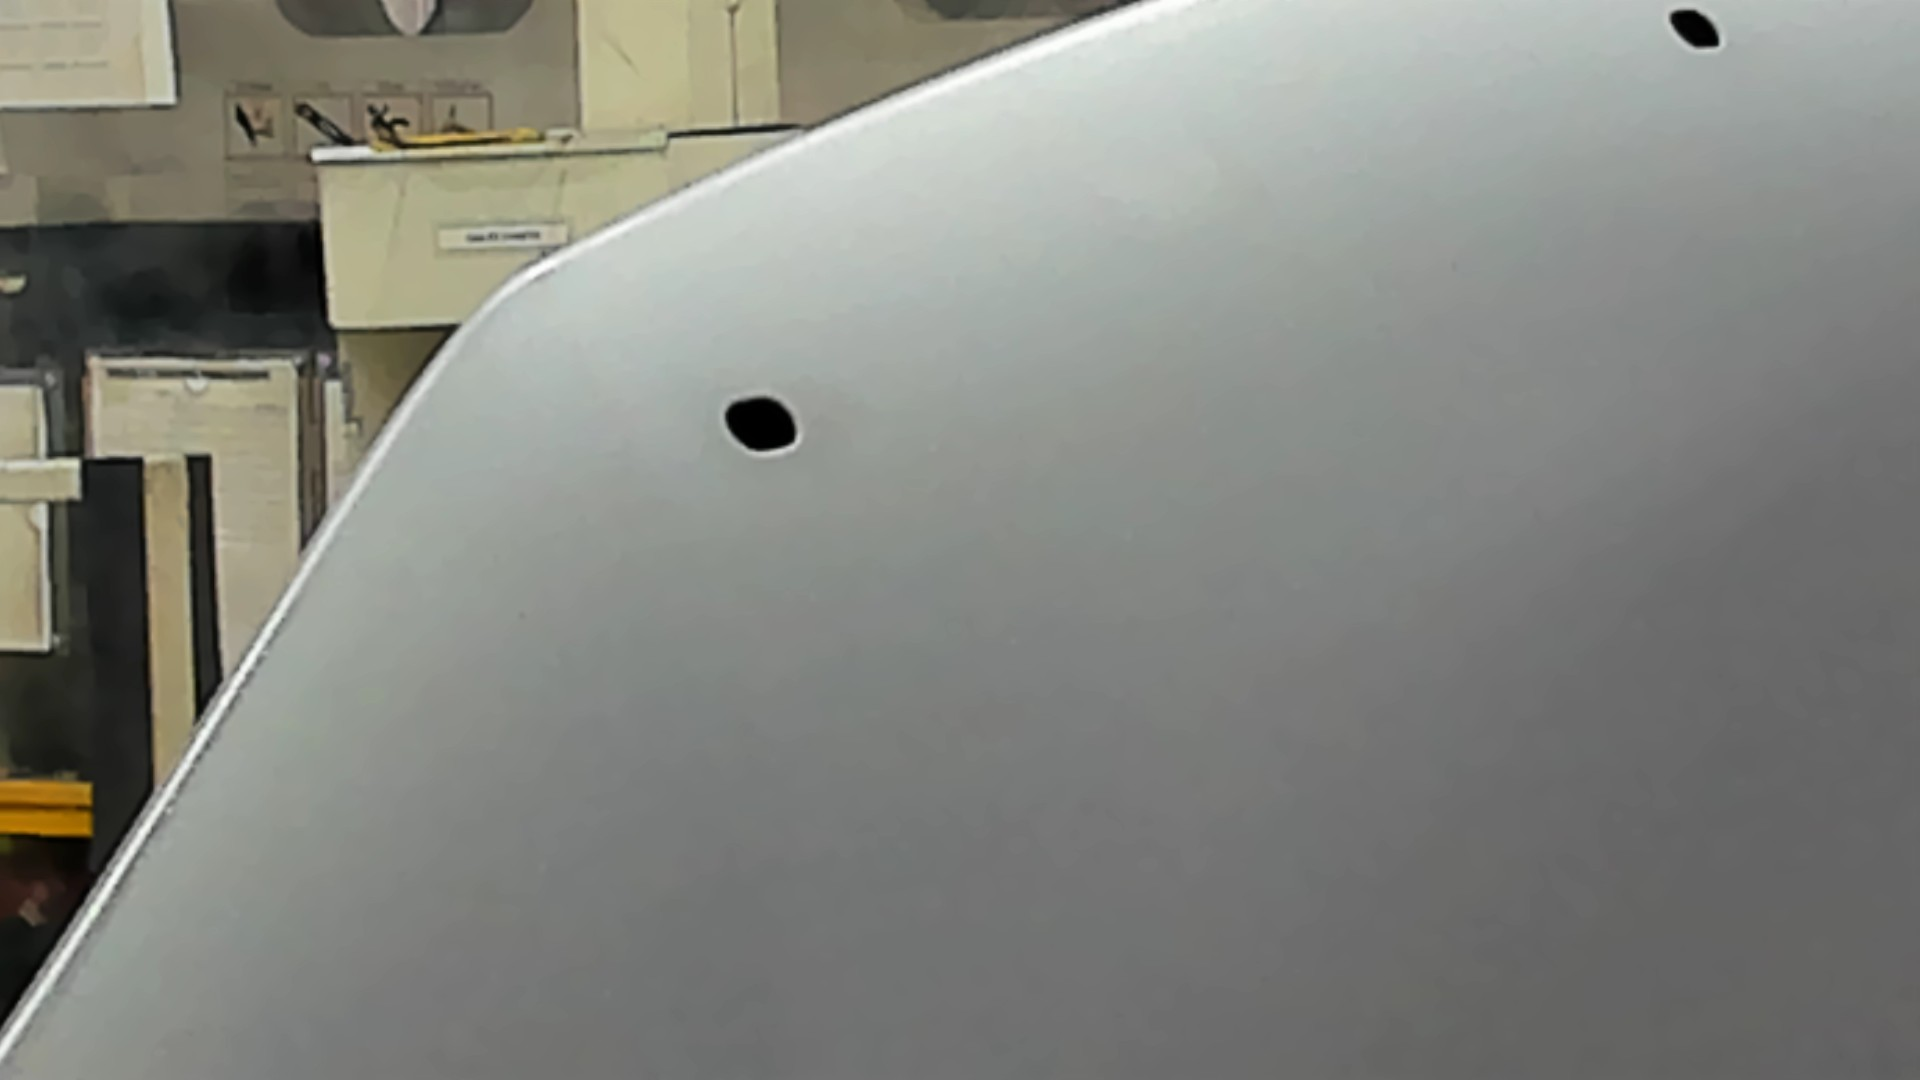Agujero: (723, 396, 800, 455), (1667, 7, 1724, 51)
